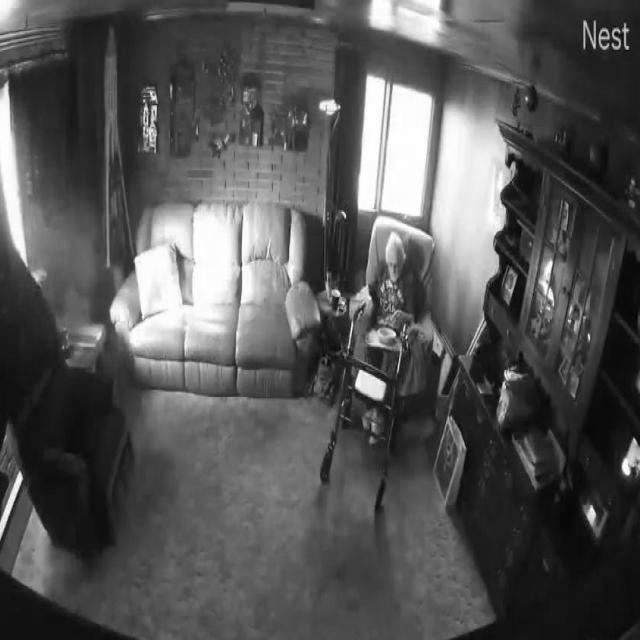fire: (54, 282, 93, 332)
